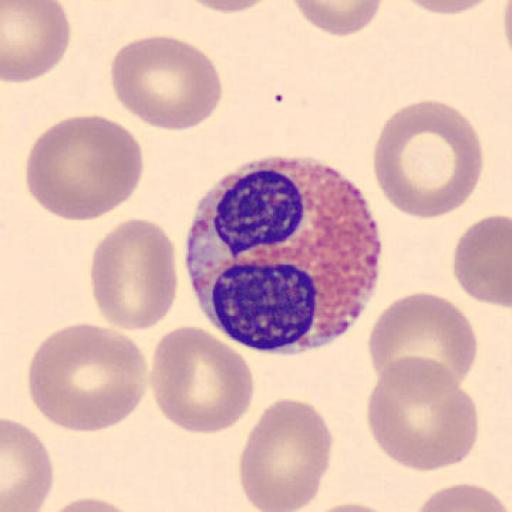RBC: (27, 321, 149, 434), (372, 97, 484, 220), (365, 356, 480, 472), (24, 115, 144, 222), (149, 324, 256, 435), (109, 34, 224, 132), (238, 396, 334, 512), (368, 291, 478, 392), (88, 218, 179, 332), (452, 213, 512, 309), (2, 1, 71, 84), (2, 416, 56, 512), (291, 0, 383, 38), (412, 481, 510, 512), (34, 495, 145, 512), (183, 0, 274, 16), (402, 1, 497, 16), (297, 502, 407, 512), (503, 0, 511, 63)
WBC: (184, 155, 383, 354)
